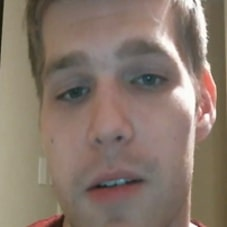awake: (43, 29, 181, 216)
